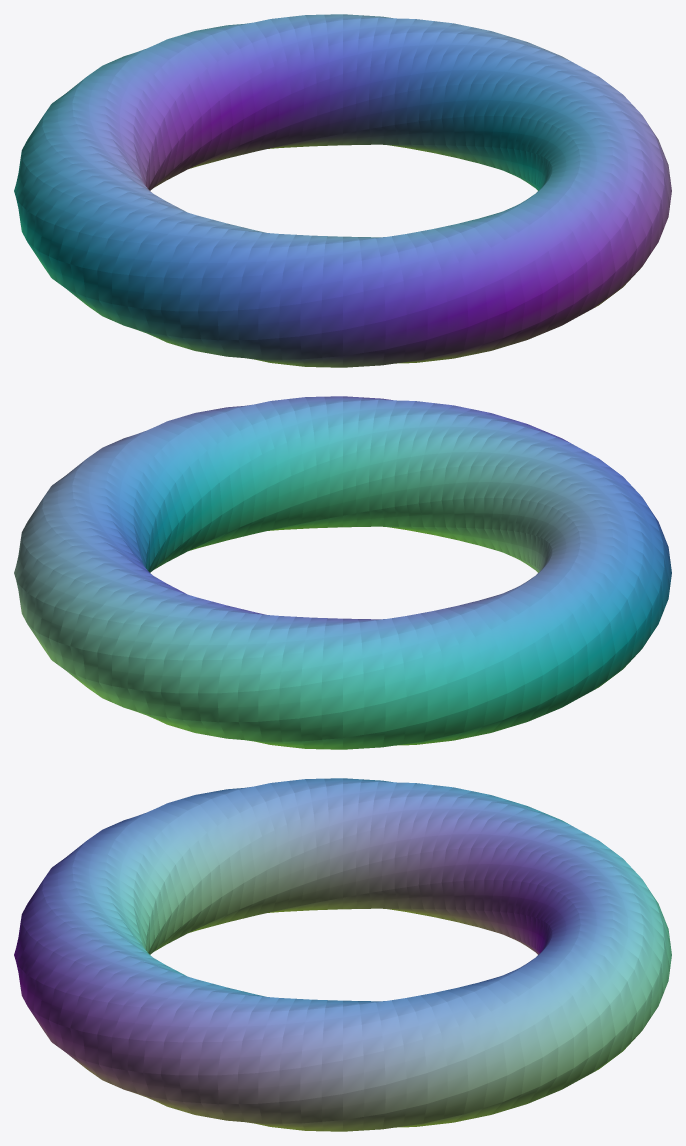
File: TwistedTorus.fbx
3 views of the same model, one above another, from view 1: azimuth 30°, elevation 25°; view 2: azimuth 150°, elevation 25°; view 3: azimuth 270°, elevation 25° (orthographic).
Visible parts, largest first — view 1: TwistedTorus; view 2: TwistedTorus; view 3: TwistedTorus.
Part boxes in pixels (<box>): TwistedTorus: <box>14,14,671,367</box>; TwistedTorus: <box>14,396,671,749</box>; TwistedTorus: <box>14,778,671,1131</box>.
Bounding box in the file's own units: 250 × 50 × 250.
